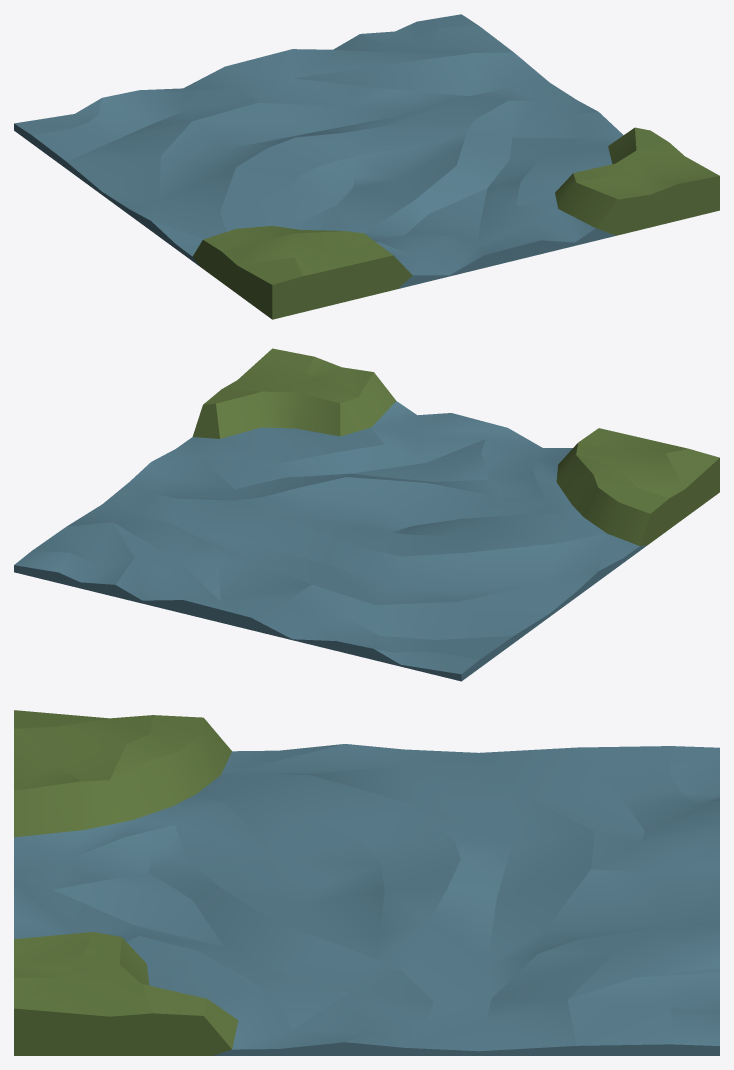
The model's file is Water_River_Entrance_B.glb.
3 renders of one model, top to bottom at view 1: azimuth 30°, elevation 25°; view 2: azimuth 150°, elevation 25°; view 3: azimuth 270°, elevation 25°, orthographic. The views are drawn at different scales.
Visible parts, largest first — view 1: Water_River_Entrance_B; view 2: Water_River_Entrance_B; view 3: Water_River_Entrance_B.
Part boxes in pixels (box(x1,y1,x2,y2)): Water_River_Entrance_B: box(14, 14, 719, 319); Water_River_Entrance_B: box(14, 348, 719, 681); Water_River_Entrance_B: box(14, 710, 719, 1055).
Bounding box in the file's own units: 1.47 × 0.1318 × 1.47.
